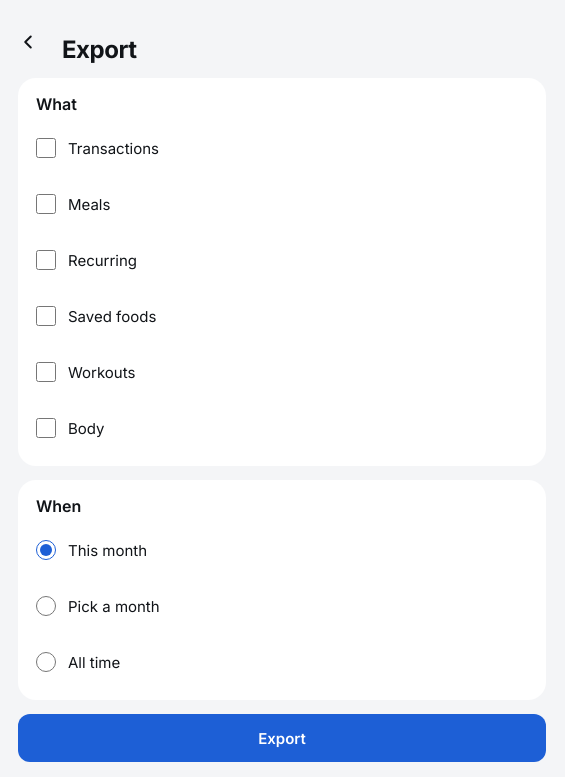
Scenario: nothing checked asks for one
The image size is (565, 777).
Click the button "Export": (282, 738) top-left (18, 714), bottom-right (546, 762)
(page scrolled)
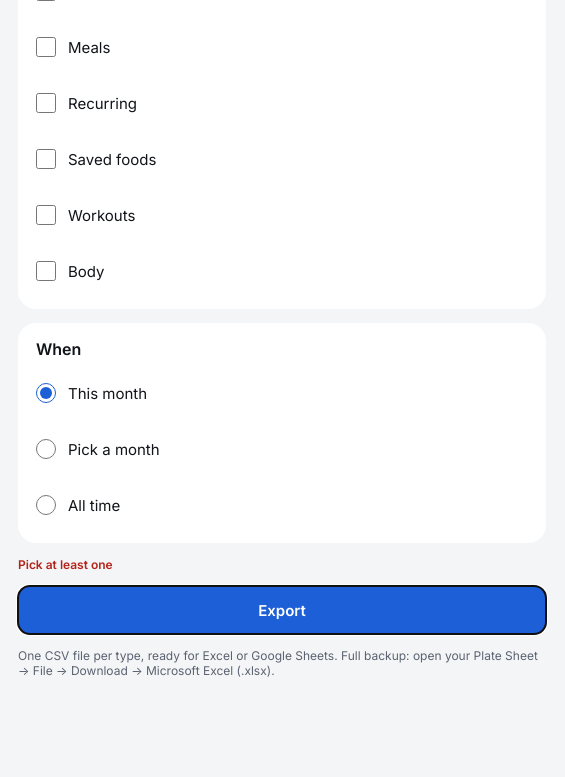
Expected: the text "Full backup: open your Plate Sheet → File → Download → Microsoft Excel (.xlsx)." is shown, top-left (18, 648), bottom-right (538, 678)
Now the text "Pick at least one" is shown, box top-left (18, 557), bottom-right (113, 572)
